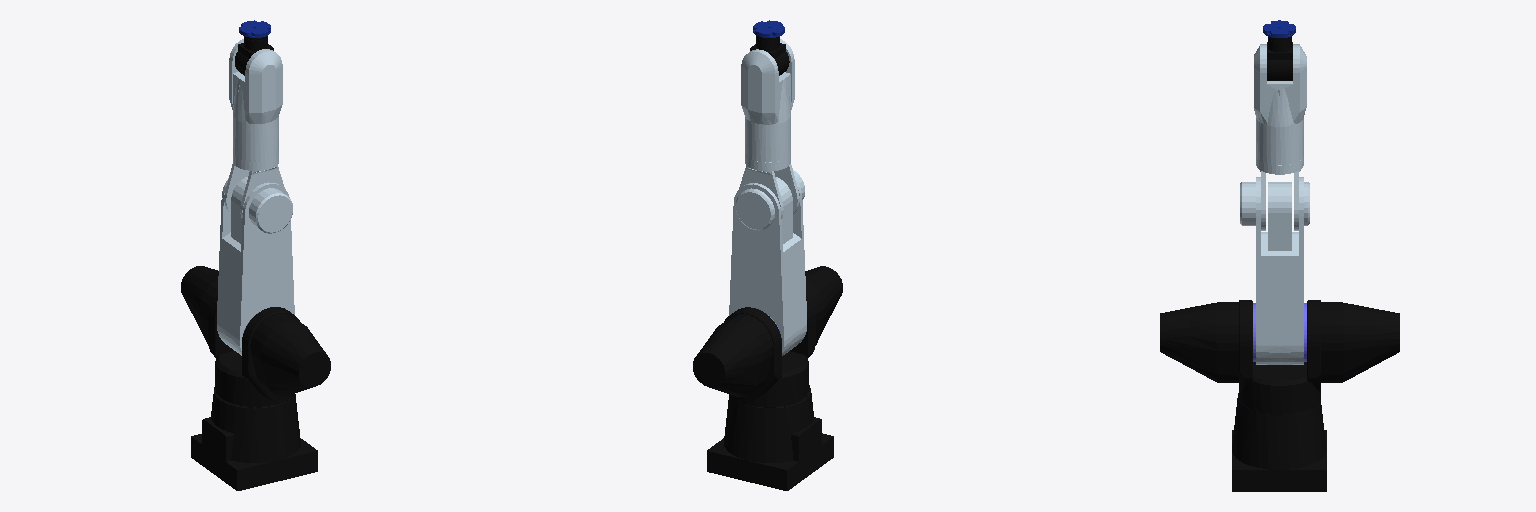
robot.urdf — crs97:
<?xml version="1.0"?>
<!-- CRS A465 (CTU station CRS97). GENERATED by robodk2urdf.py, do not edit.
     Kinematics = ctu_crs (joint values == robot.get_q(), frame 'flange' ==
     robot.fk(q), base_link == ctu base frame). Meshes from RoboDK library.
     Units: m, rad. -->
<robot name="crs97">
  <material name="crs_0"><color rgba="0.1 0.1 0.1 1"/></material>
  <material name="crs_1"><color rgba="0.778 0.849 0.9 1"/></material>
  <material name="crs_2"><color rgba="0.5 0.5 1 1"/></material>
  <link name="base_link">
    <visual>
      <origin xyz="0 0 -0.0248"/>
      <geometry><mesh filename="meshes/crs97/link0.stl"/></geometry>
      <material name="crs_0"/>
    </visual>
    <collision>
      <origin xyz="0 0 -0.0248"/>
      <geometry><mesh filename="meshes/crs97/link0.stl"/></geometry>
    </collision>
  </link>
  <link name="link1">
    <visual>
      <origin xyz="0 0 0.3052"/>
      <geometry><mesh filename="meshes/crs97/link1.stl"/></geometry>
      <material name="crs_0"/>
    </visual>
    <collision>
      <origin xyz="0 0 0.3052"/>
      <geometry><mesh filename="meshes/crs97/link1.stl"/></geometry>
    </collision>
  </link>
  <link name="link2">
    <visual>
      <origin xyz="0 0 0"/>
      <geometry><mesh filename="meshes/crs97/link2_0.stl"/></geometry>
      <material name="crs_1"/>
    </visual>
    <visual>
      <origin xyz="0 0 0"/>
      <geometry><mesh filename="meshes/crs97/link2_1.stl"/></geometry>
      <material name="crs_2"/>
    </visual>
    <collision>
      <origin xyz="0 0 0"/>
      <geometry><mesh filename="meshes/crs97/link2.stl"/></geometry>
    </collision>
  </link>
  <link name="link3">
    <visual>
      <origin xyz="0 0 0"/>
      <geometry><mesh filename="meshes/crs97/link3.stl"/></geometry>
      <material name="crs_1"/>
    </visual>
    <collision>
      <origin xyz="0 0 0"/>
      <geometry><mesh filename="meshes/crs97/link3.stl"/></geometry>
    </collision>
  </link>
  <link name="link4">
    <visual>
      <origin xyz="0 0 0.3302"/>
      <geometry><mesh filename="meshes/crs97/link4.stl"/></geometry>
      <material name="crs_1"/>
    </visual>
    <collision>
      <origin xyz="0 0 0.3302"/>
      <geometry><mesh filename="meshes/crs97/link4.stl"/></geometry>
    </collision>
  </link>
  <link name="link5">
    <visual>
      <origin xyz="0 0 0"/>
      <geometry><mesh filename="meshes/crs97/link5.stl"/></geometry>
      <material name="crs_0"/>
    </visual>
    <collision>
      <origin xyz="0 0 0"/>
      <geometry><mesh filename="meshes/crs97/link5.stl"/></geometry>
    </collision>
  </link>
  <link name="link6">
    <visual>
      <origin xyz="0 0 0.0762"/>
      <geometry><mesh filename="meshes/crs97/link6.stl"/></geometry>
      <material name="crs_0"/>
    </visual>
    <collision>
      <origin xyz="0 0 0.0762"/>
      <geometry><mesh filename="meshes/crs97/link6.stl"/></geometry>
    </collision>
  </link>
  <joint name="joint1" type="revolute">
    <parent link="base_link"/>
    <child link="link1"/>
    <origin xyz="0 0 0" rpy="0 -0 3.14159265359"/>
    <axis xyz="0 0 1"/>
    <limit lower="-2.94524311274" upper="3.02378292908" velocity="1.0" effort="100"/>
  </joint>
  <joint name="joint2" type="revolute">
    <parent link="link1"/>
    <child link="link2"/>
    <origin xyz="0 0 0.3052" rpy="-1.57079632679 -1.57079632679 0"/>
    <axis xyz="0 0 1"/>
    <limit lower="-1.57475473354" upper="1.56683792005" velocity="1.0" effort="100"/>
  </joint>
  <joint name="joint3" type="revolute">
    <parent link="link2"/>
    <child link="link3"/>
    <origin xyz="0.3048 0 0" rpy="0 -0 -1.57079632679"/>
    <axis xyz="0 0 1"/>
    <limit lower="-2.02043677534" upper="1.98509385799" velocity="1.0" effort="100"/>
  </joint>
  <joint name="joint4" type="revolute">
    <parent link="link3"/>
    <child link="link4"/>
    <origin xyz="0 0 0" rpy="-1.57079632679 -0 0"/>
    <axis xyz="0 0 1"/>
    <limit lower="-3.19758143355" upper="3.24112826242" velocity="1.0" effort="100"/>
  </joint>
  <joint name="joint5" type="revolute">
    <parent link="link4"/>
    <child link="link5"/>
    <origin xyz="0 0 0.3302" rpy="1.57079632679 -0 0"/>
    <axis xyz="0 0 1"/>
    <limit lower="-1.81269896112" upper="1.83154851704" velocity="1.0" effort="100"/>
  </joint>
  <joint name="joint6" type="revolute">
    <parent link="link5"/>
    <child link="link6"/>
    <origin xyz="0 0 0" rpy="1.57079632679 1.22464679915e-16 3.14159265359"/>
    <axis xyz="0 0 1"/>
    <limit lower="-3.17736326301" upper="3.15247936081" velocity="1.0" effort="100"/>
  </joint>
  <link name="flange"/>
  <joint name="link6_to_flange" type="fixed">
    <parent link="link6"/>
    <child link="flange"/>
    <origin xyz="0 0 0.0762" rpy="0 0 3.14159265359"/>
  </joint>
  <!-- CRS adapter; the hoop is NOT part of the robot: its magnetic mount is
       ambiguous and not rigid, it is to be attached from measurements. -->
  <material name="crs_adapter_color"><color rgba="0.12 0.22 0.6 1"/></material>
  <link name="adapter">
    <visual><geometry><mesh filename="meshes/crs_adapter.stl" scale="0.001 0.001 0.001"/></geometry>
      <material name="crs_adapter_color"/></visual>
    <collision><geometry><mesh filename="meshes/crs_adapter.stl" scale="0.001 0.001 0.001"/></geometry></collision>
  </link>
  <joint name="flange_to_adapter" type="fixed">
    <parent link="flange"/>
    <child link="adapter"/>
    <origin xyz="0 0 0.002" rpy="3.14159265359 -0 -1.57079632679"/>
  </joint>
  <!-- centre of the adapter front face, axes as in the adapter/hoop STEP files
       (triangle vertex and nominal hoop ring direction = -y) -->
  <link name="adapter_front"/>
  <joint name="adapter_to_adapter_front" type="fixed">
    <parent link="adapter"/>
    <child link="adapter_front"/>
    <origin xyz="0 0 -0.008" rpy="0 0 0"/>
  </joint>
</robot>

--- What the picture shows (computed from the rendered views, not written in the file) ---
The picture shows the robot from 3 angles, left to right: view 1: azimuth 30°, elevation 25°; view 2: azimuth 150°, elevation 25°; view 3: azimuth 270°, elevation 25°; orthographic projection.
Robot: crs97 — 10 links, 9 joints (6 revolute, 3 fixed); root link base_link; default pose: all joints at 0.
Visible links, largest first — view 1: link1, link2, base_link, link4, link3, link5; view 2: link1, link2, base_link, link4, link3, link5; view 3: link1, link2, base_link, link4, link3, link5.
Boxes of the visible links, x1=… form: link1: x1=181, y1=266, x2=330, y2=406; link2: x1=217, y1=177, x2=294, y2=355; base_link: x1=191, y1=387, x2=317, y2=490; link4: x1=229, y1=39, x2=282, y2=161; link3: x1=224, y1=155, x2=284, y2=217; link5: x1=235, y1=36, x2=273, y2=75; link1: x1=693, y1=266, x2=842, y2=406; link2: x1=729, y1=170, x2=806, y2=355; base_link: x1=707, y1=385, x2=833, y2=490; link4: x1=741, y1=39, x2=794, y2=162; link3: x1=739, y1=155, x2=799, y2=218; link5: x1=750, y1=36, x2=789, y2=75; link1: x1=1160, y1=300, x2=1399, y2=414; link2: x1=1240, y1=177, x2=1309, y2=364; base_link: x1=1232, y1=393, x2=1326, y2=491; link4: x1=1254, y1=44, x2=1306, y2=164; link3: x1=1256, y1=157, x2=1303, y2=230; link5: x1=1267, y1=38, x2=1292, y2=80.
Size in the robot's own frame: 0.2032 by 0.5136 by 1.05 metres.
Meshes: 9 distinct files referenced, 9 mesh visuals loaded (9 binary STL).
